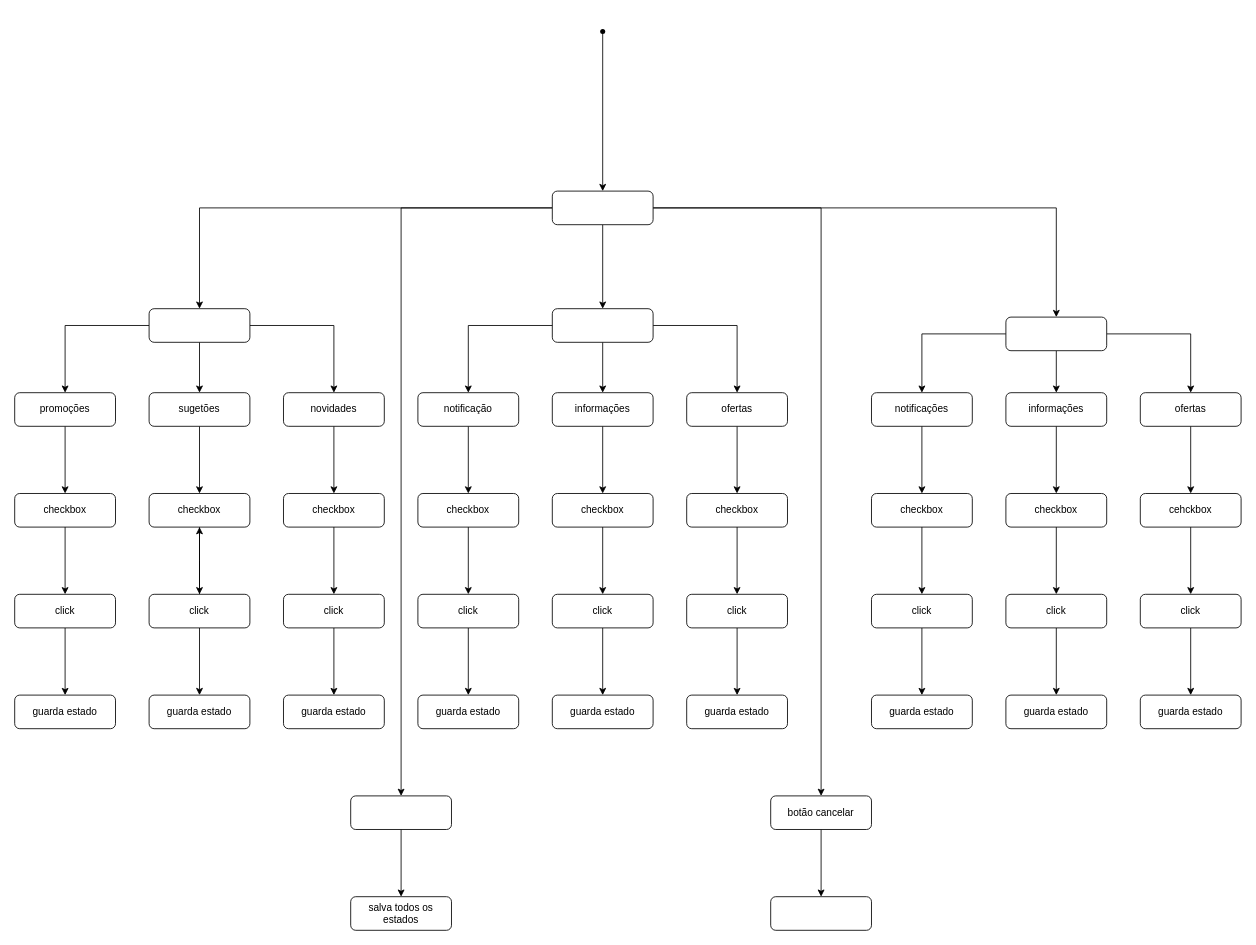
The diagram is 1256 pixels wide and 945 high, and some of its shapes have lost their labels. Here are the shapes that lost their labels. From the top down, the box of each, then its label:
(551, 190, 653, 225): página comunicação
(148, 308, 250, 342): e-mails
(551, 308, 653, 342): SMS
(1005, 316, 1107, 351): WhatsApp
(350, 795, 452, 830): botao salvar
(770, 896, 872, 930): restaura estados originais dos botões
